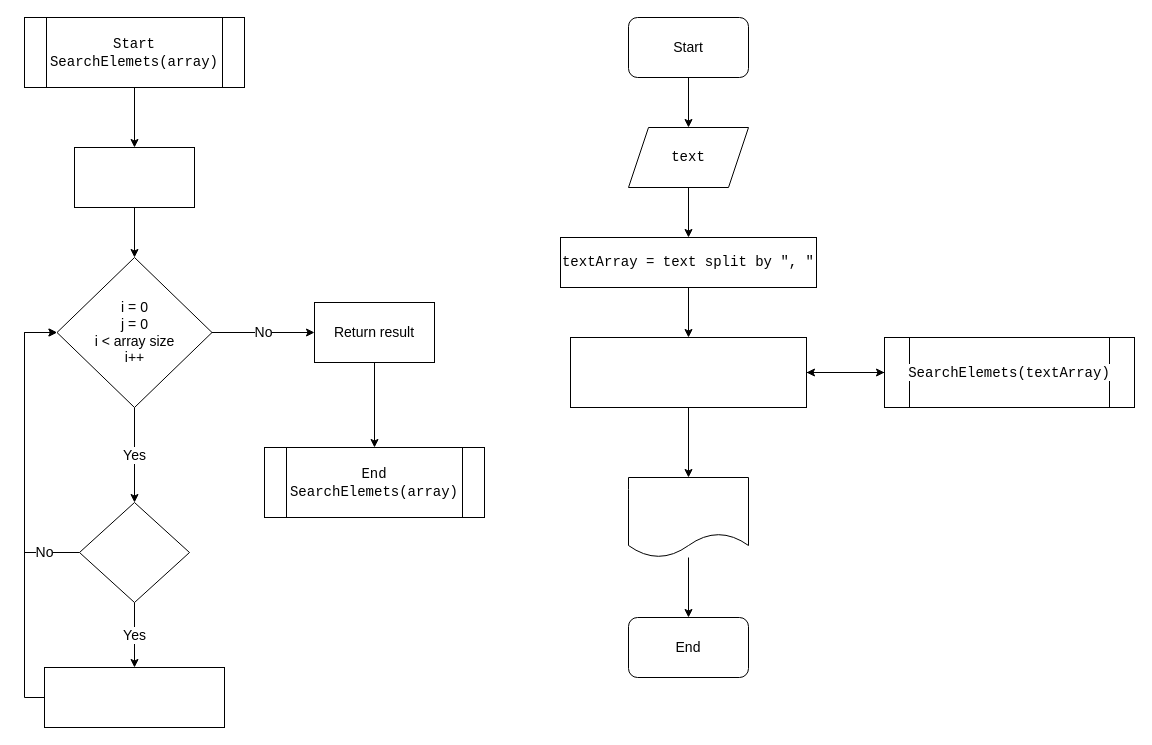
Some shapes in this 1152 by 745 pixel diagram are drawn without their labels. Here are the shapes that lost their labels. From the top down, the box of each, then its label:
(74, 146, 194, 208): result = []
(570, 336, 806, 408): resultArray = SearchElemets
(628, 476, 748, 558): resultArray
(78, 502, 190, 602): array[i] <= 3
(44, 666, 224, 728): result size + 1 result [ j ] = array [ i ]; j ++;
